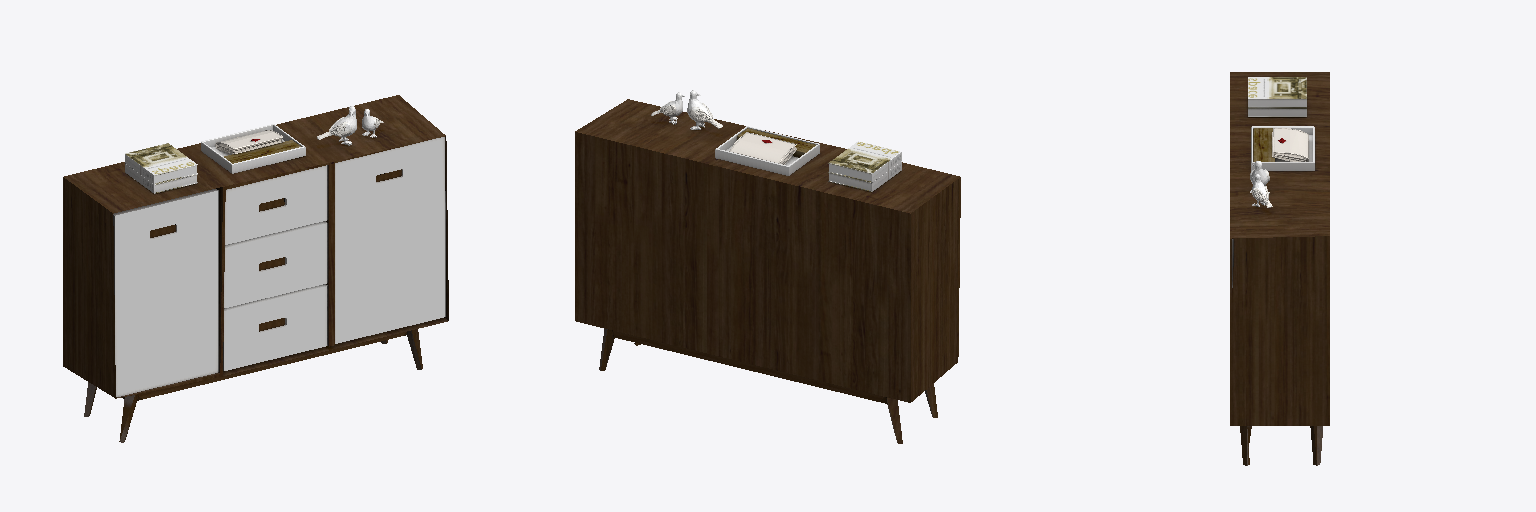
3 views of the same model, side by side, from view 1: azimuth 30°, elevation 25°; view 2: azimuth 150°, elevation 25°; view 3: azimuth 270°, elevation 25° (orthographic).
Visible parts, largest first — view 1: solid_006, solid_007, solid_002, solid_010, solid_005, solid_001, solid_003, solid_011, solid_009; view 2: solid_007, solid_002, solid_010, solid_005, solid_001, solid_011, solid_009; view 3: solid_007, solid_010, solid_005, solid_002, solid_001, solid_003.
Part boxes in pixels (left/top/right/bottom): solid_006: left=113, top=137, right=445, bottom=396; solid_007: left=63, top=95, right=448, bottom=442; solid_002: left=201, top=124, right=305, bottom=173; solid_010: left=125, top=143, right=197, bottom=193; solid_005: left=215, top=130, right=283, bottom=153; solid_001: left=155, top=166, right=196, bottom=192; solid_003: left=224, top=140, right=300, bottom=163; solid_011: left=330, top=106, right=376, bottom=145; solid_009: left=125, top=154, right=154, bottom=193; solid_007: left=575, top=99, right=960, bottom=443; solid_002: left=715, top=126, right=819, bottom=175; solid_010: left=828, top=141, right=900, bottom=191; solid_005: left=729, top=132, right=796, bottom=164; solid_001: left=829, top=164, right=871, bottom=190; solid_011: left=662, top=90, right=712, bottom=129; solid_009: left=872, top=152, right=901, bottom=191; solid_007: left=1230, top=72, right=1329, bottom=465; solid_010: left=1248, top=77, right=1306, bottom=108; solid_005: left=1272, top=128, right=1308, bottom=161; solid_002: left=1251, top=126, right=1314, bottom=170; solid_001: left=1248, top=99, right=1306, bottom=116; solid_003: left=1253, top=128, right=1274, bottom=161.
Bounding box in the file's own units: 1.57 × 1.22 × 0.4072.
1 materials, 1 textured.